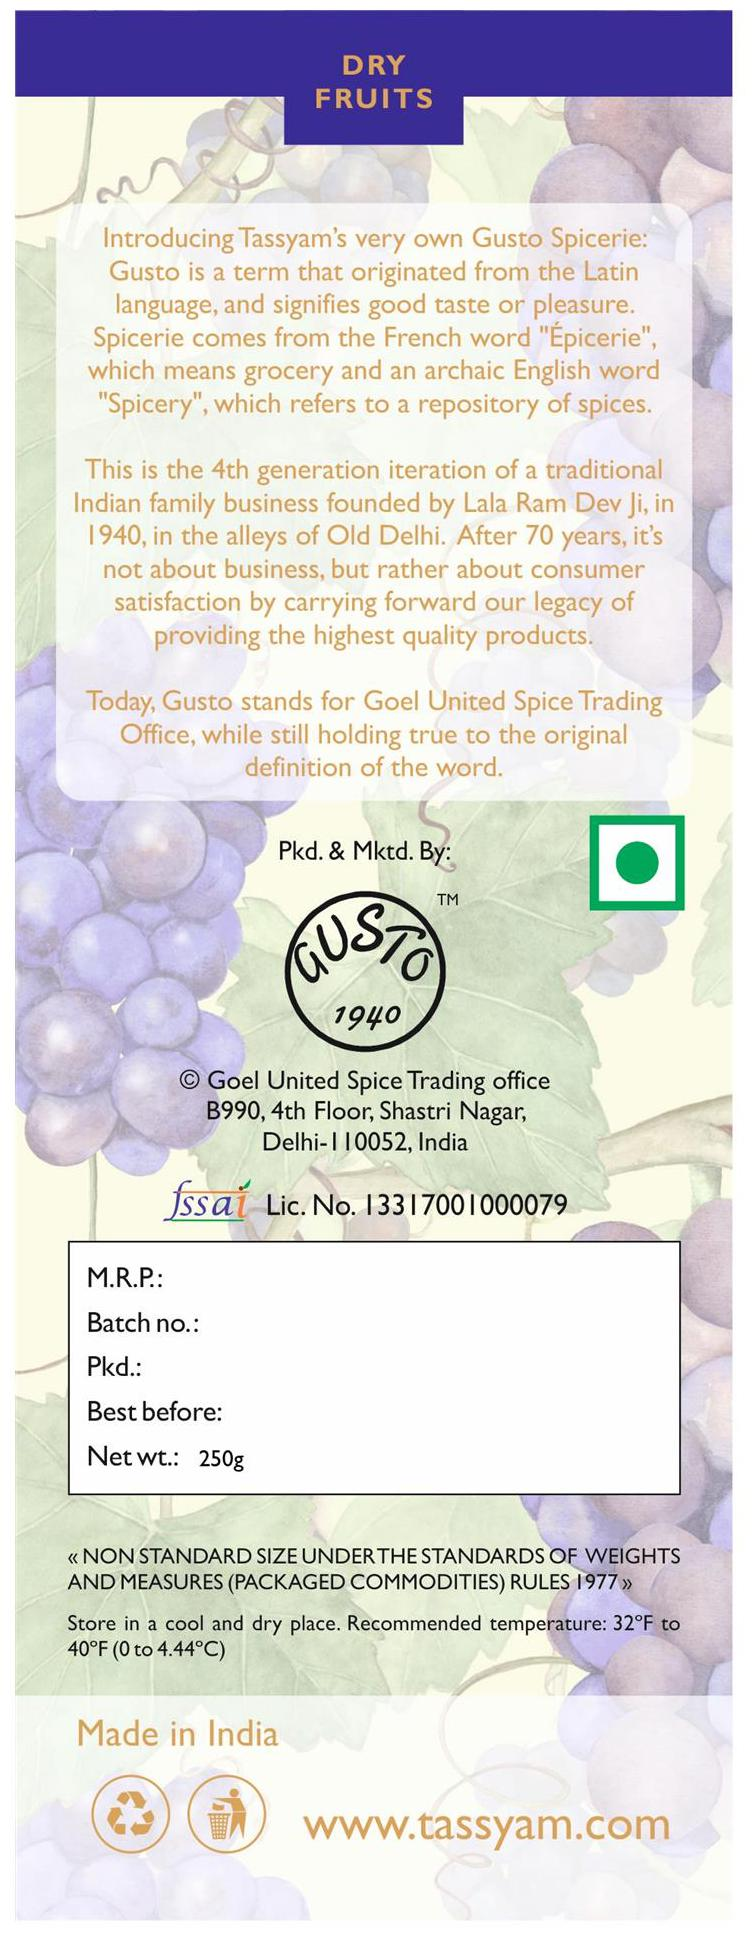fssai: (162, 1179, 252, 1222)
